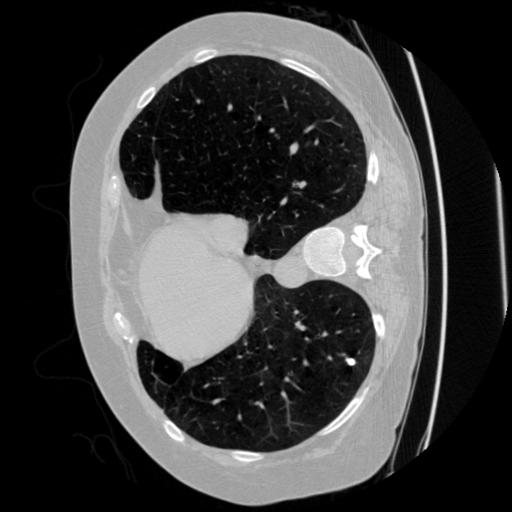nodule: (345, 355, 358, 368)
